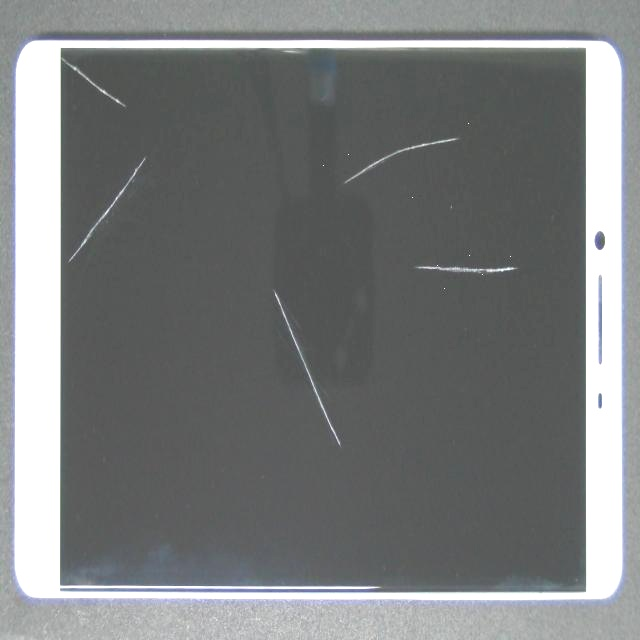scratch: (144, 144, 639, 436), (99, 37, 410, 477), (161, 104, 486, 311)
